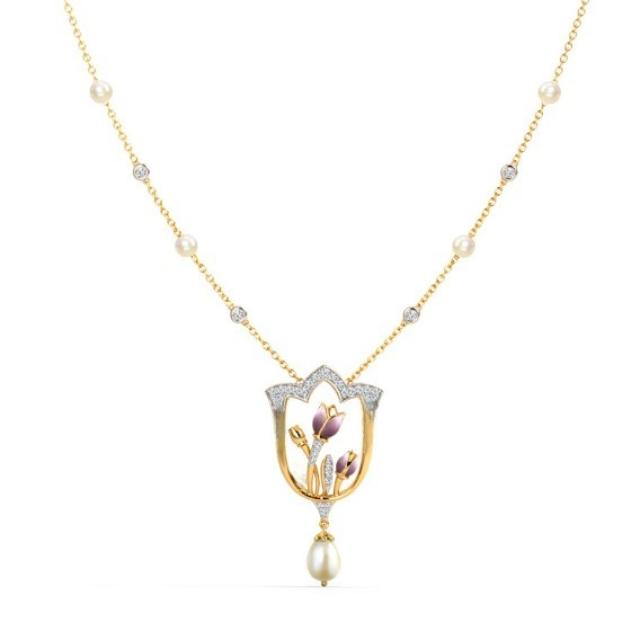missing gem: (290, 459, 307, 486)
